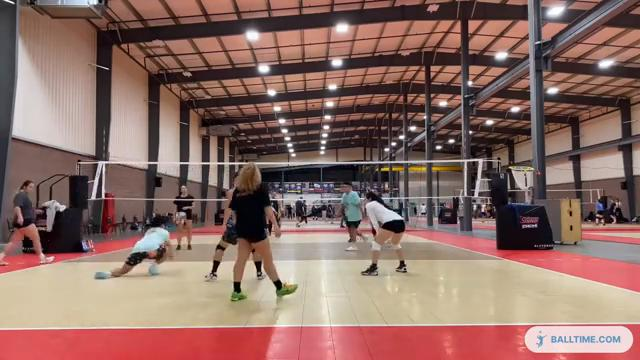ricezione: (92, 214, 176, 281)
